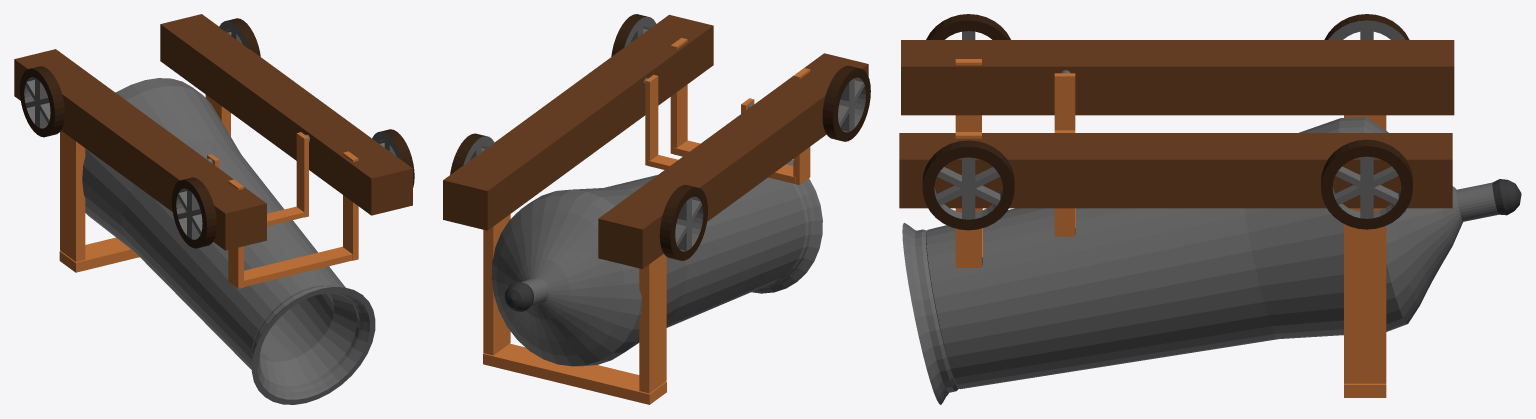
File: CannonColored.fbx
3 renders of one model, left to right at view 1: azimuth 30°, elevation 25°; view 2: azimuth 150°, elevation 25°; view 3: azimuth 270°, elevation 25°, orthographic. The views are drawn at different scales.
Visible parts, largest first — view 1: Circle.003; view 2: Circle.003; view 3: Circle.003.
Part boxes in pixels (x1,y1,x2,y2): Circle.003: (14,14,414,404); Circle.003: (443,14,870,404); Circle.003: (899,14,1521,404).
Bounding box in the file's own units: 45 × 49.61 × 89.07.
